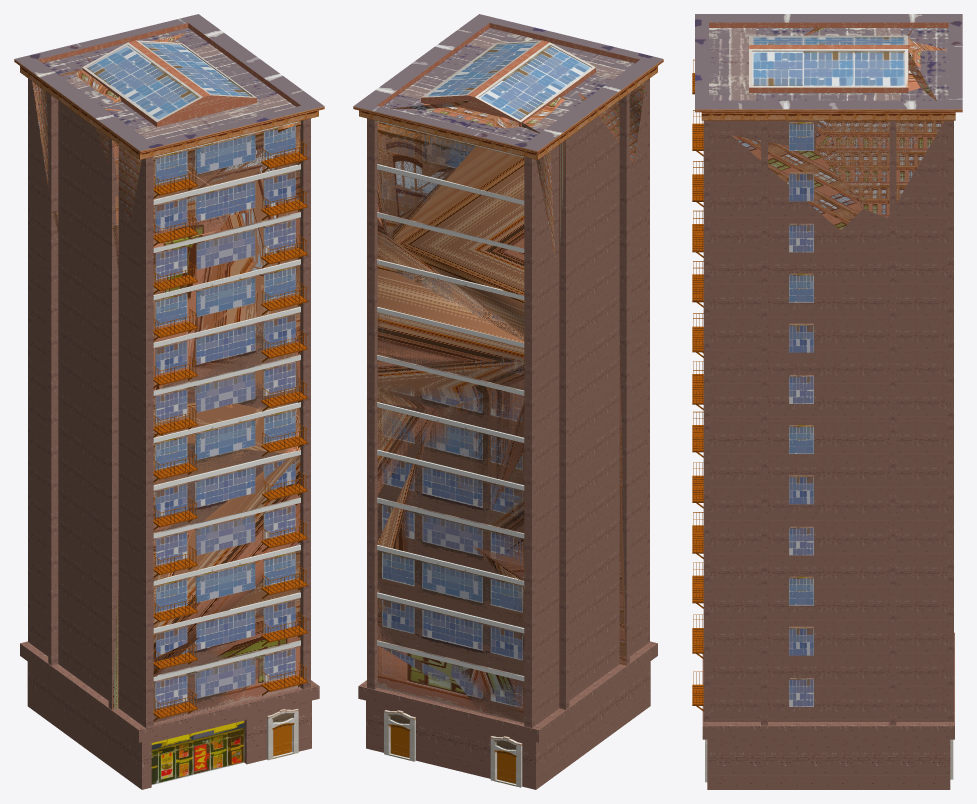
Rendered from A06_Destr.FBX.
3 renders of one model, left to right at view 1: azimuth 30°, elevation 25°; view 2: azimuth 150°, elevation 25°; view 3: azimuth 270°, elevation 25°, orthographic. The views are drawn at different scales.
Visible parts, largest first — view 1: K_Building_A06_00_Part_7, K_Building_A06_00_Part_14, K_Building_A06_00_Part_3, K_Building_A06_00_Part_15, K_Building_A06_00_Part_10, K_Building_A06_00_Part_1, K_Building_A06_00_Part_8, K_Building_A06_00_Part_5, K_Building_A06_00_Part_6, K_Building_A06_00_Part_4, K_Building_A06_00_Part_11, K_Building_A06_00_Part_13 (+2 smaller); view 2: K_Building_A06_00_Part_15, K_Building_A06_00_Part_3, K_Building_A06_00_Part_11, K_Building_A06_00_Part_12, K_Building_A06_00_Part_6, K_Building_A06_00_Part_14, K_Building_A06_00_Part_9, K_Building_A06_00_Part_2, K_Building_A06_00_Part_10, K_Building_A06_00_Part_1, K_Building_A06_00_Part_5, K_Building_A06_00_Part_13 (+2 smaller); view 3: K_Building_A06_00_Part_12, K_Building_A06_00_Part_6, K_Building_A06_00_Part_5, K_Building_A06_00_Part_8, K_Building_A06_00_Part_7, K_Building_A06_00_Part_13, K_Building_A06_00_Part_9, K_Building_A06_00_Part_4, K_Building_A06_00_Part_2, K_Building_A06_00_Part_10, K_Building_A06_00_Part_1, K_Building_A06_00_Part_11 (+2 smaller).
Part boxes in pixels (box(x1,y1,x2,y2)): K_Building_A06_00_Part_7: box(111, 442, 310, 789); K_Building_A06_00_Part_14: box(28, 211, 296, 412); K_Building_A06_00_Part_3: box(28, 300, 304, 545); K_Building_A06_00_Part_15: box(20, 482, 194, 745); K_Building_A06_00_Part_10: box(76, 77, 293, 252); K_Building_A06_00_Part_1: box(35, 59, 248, 226); K_Building_A06_00_Part_8: box(220, 130, 310, 304); K_Building_A06_00_Part_5: box(28, 281, 310, 419); K_Building_A06_00_Part_6: box(27, 680, 319, 778); K_Building_A06_00_Part_4: box(143, 62, 324, 143); K_Building_A06_00_Part_11: box(14, 45, 97, 258); K_Building_A06_00_Part_13: box(117, 15, 267, 74); K_Building_A06_00_Part_15: box(404, 460, 649, 784); K_Building_A06_00_Part_3: box(438, 327, 649, 567); K_Building_A06_00_Part_11: box(387, 114, 558, 345); K_Building_A06_00_Part_12: box(367, 388, 473, 616); K_Building_A06_00_Part_6: box(358, 606, 632, 789); K_Building_A06_00_Part_14: box(531, 164, 649, 372); K_Building_A06_00_Part_9: box(367, 232, 533, 368); K_Building_A06_00_Part_2: box(353, 98, 509, 236); K_Building_A06_00_Part_10: box(510, 21, 663, 166); K_Building_A06_00_Part_1: box(501, 83, 633, 260); K_Building_A06_00_Part_5: box(367, 346, 548, 409); K_Building_A06_00_Part_13: box(356, 55, 513, 108); K_Building_A06_00_Part_12: box(693, 404, 953, 636); K_Building_A06_00_Part_6: box(702, 610, 954, 789); K_Building_A06_00_Part_5: box(692, 263, 953, 434); K_Building_A06_00_Part_8: box(692, 127, 863, 313); K_Building_A06_00_Part_7: box(692, 446, 844, 719); K_Building_A06_00_Part_13: box(815, 42, 957, 203); K_Building_A06_00_Part_9: box(806, 209, 953, 364); K_Building_A06_00_Part_4: box(695, 42, 851, 150); K_Building_A06_00_Part_2: box(863, 38, 962, 241); K_Building_A06_00_Part_10: box(692, 14, 835, 135); K_Building_A06_00_Part_1: box(825, 14, 918, 43); K_Building_A06_00_Part_11: box(903, 14, 962, 50).
Size of the model in its own units: 1333 by 4551 by 1595.
